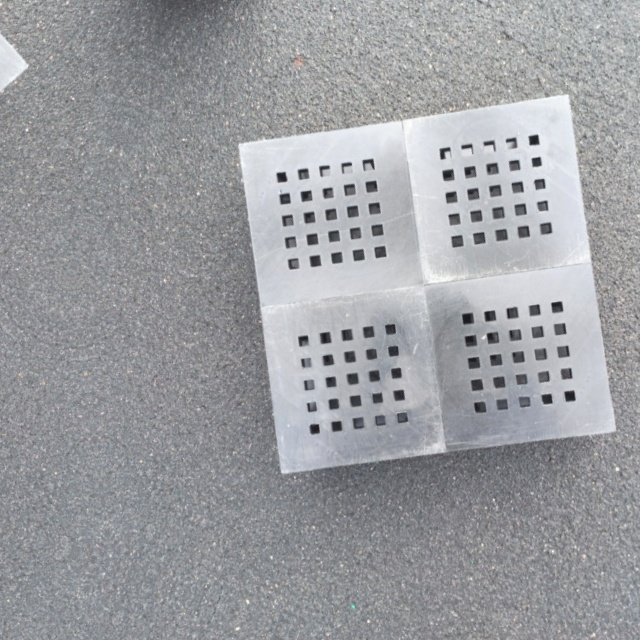pallet: (225, 77, 626, 477)
